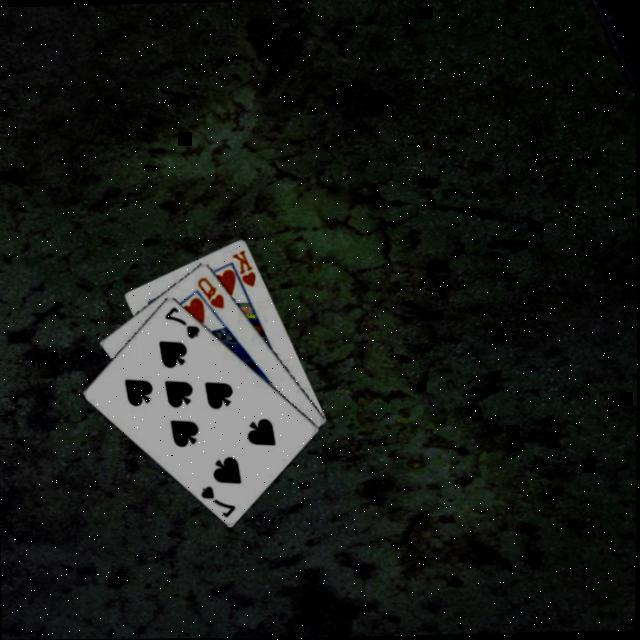7S: (160, 300, 202, 340), (196, 480, 238, 519)
KH: (228, 245, 258, 288)
QH: (194, 271, 226, 310)
